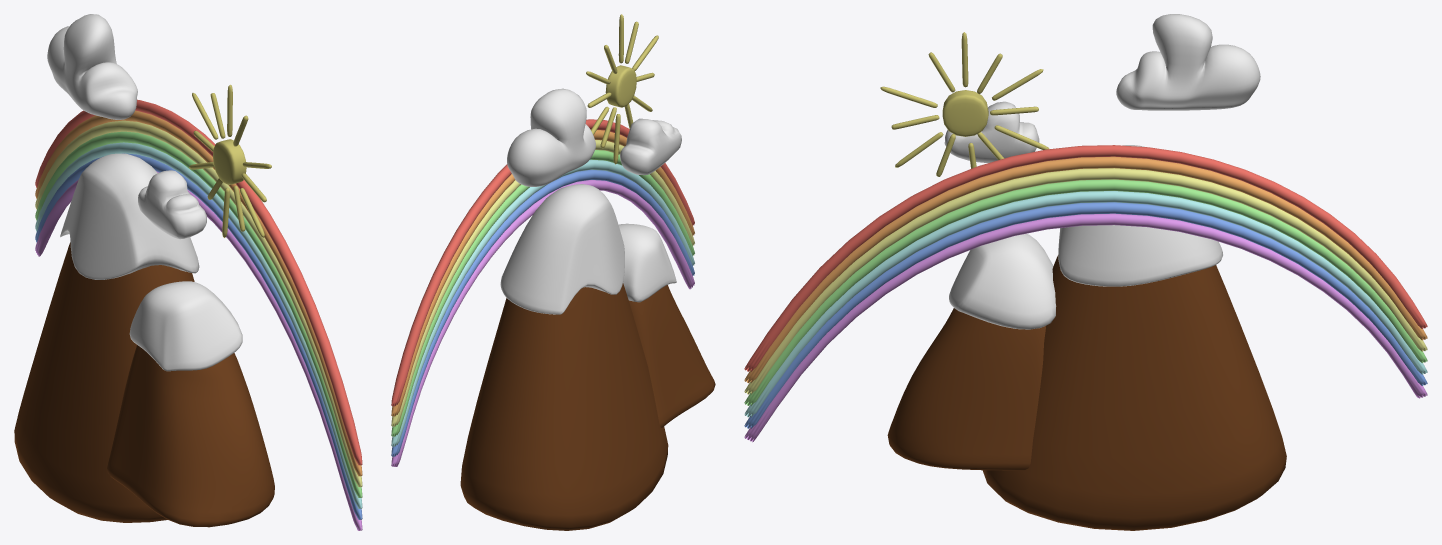
File: mountains .fbx
3 views of the same model, side by side, from view 1: azimuth 30°, elevation 25°; view 2: azimuth 150°, elevation 25°; view 3: azimuth 270°, elevation 25° (orthographic). The views are drawn at different scales.
Parts seen in each view (by area): view 1: Cube, Cube.002, Cube.001, Cube.003, Cube.008, BézierCurve.006, BézierCurve.002, BézierCurve.003, BézierCurve.004, Cube.004, BézierCurve.005, BézierCurve.001 (+4 smaller); view 2: Cube, Cube.001, Cube.002, Cube.008, BézierCurve.006, BézierCurve, BézierCurve.001, Cube.003, BézierCurve.002, Cube.004, BézierCurve.003, BézierCurve.004 (+4 smaller); view 3: Cube, Cube.002, BézierCurve.006, Cube.008, BézierCurve, Cube.001, BézierCurve.003, BézierCurve.005, BézierCurve.001, BézierCurve.002, BézierCurve.004, Cube.003 (+4 smaller).
Part boxes in pixels (<box>): Cube: <box>14,242,194,522</box>; Cube.002: <box>107,345,274,527</box>; Cube.001: <box>60,153,199,279</box>; Cube.003: <box>129,281,242,371</box>; Cube.008: <box>47,14,137,119</box>; BézierCurve.006: <box>35,99,362,465</box>; BézierCurve.002: <box>35,142,362,508</box>; BézierCurve.003: <box>35,131,362,497</box>; BézierCurve.004: <box>35,120,362,487</box>; Cube.004: <box>138,170,206,239</box>; BézierCurve.005: <box>35,110,362,476</box>; BézierCurve.001: <box>35,153,362,519</box>; Cube: <box>460,283,668,530</box>; Cube.001: <box>500,184,624,314</box>; Cube.002: <box>629,285,715,427</box>; Cube.008: <box>507,88,595,186</box>; BézierCurve.006: <box>391,119,694,406</box>; BézierCurve: <box>391,180,694,466</box>; BézierCurve.001: <box>391,169,694,456</box>; Cube.003: <box>618,223,676,302</box>; BézierCurve.002: <box>391,159,694,446</box>; Cube.004: <box>620,118,681,175</box>; BézierCurve.003: <box>391,150,694,436</box>; BézierCurve.004: <box>391,140,694,426</box>; Cube: <box>982,255,1286,530</box>; Cube.002: <box>887,308,1045,470</box>; BézierCurve.006: <box>744,145,1427,371</box>; Cube.008: <box>1116,14,1260,110</box>; BézierCurve: <box>744,213,1427,442</box>; Cube.001: <box>1058,145,1222,286</box>; BézierCurve.003: <box>744,179,1427,405</box>; BézierCurve.005: <box>744,156,1427,383</box>; BézierCurve.001: <box>744,202,1427,428</box>; BézierCurve.002: <box>744,191,1427,417</box>; BézierCurve.004: <box>744,168,1427,394</box>; Cube.003: <box>949,233,1056,329</box>.
Bounding box in the file's own units: 771 × 2110 × 2719.
